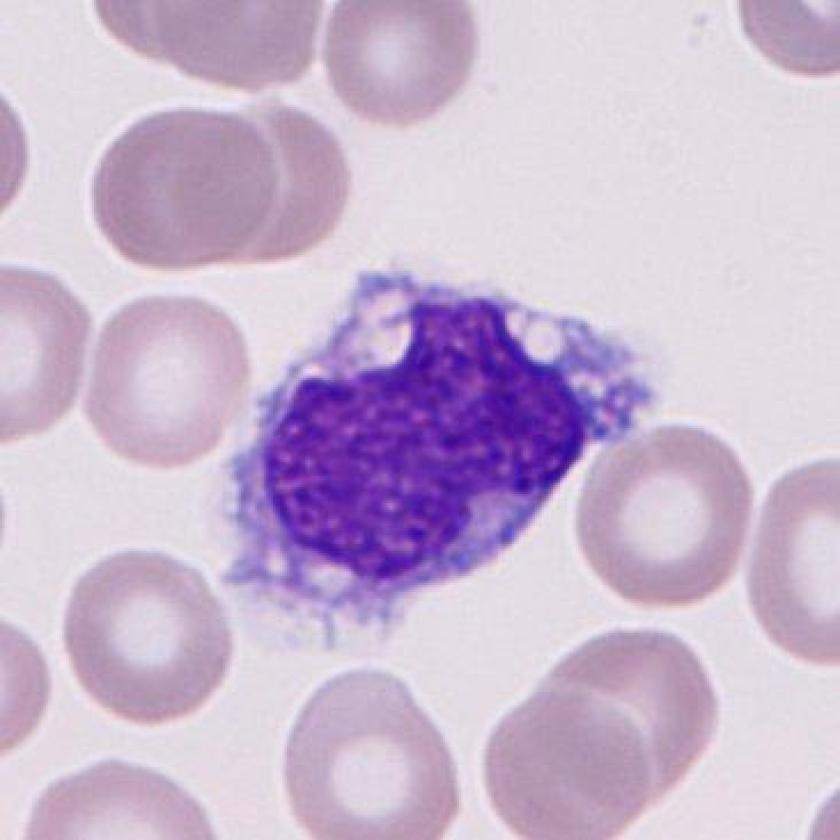monocyte: (196, 242, 690, 675)
